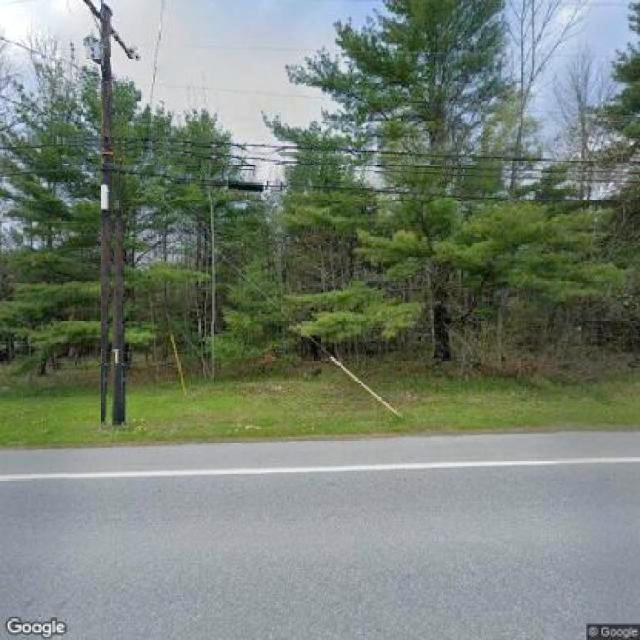crossarm: (84, 0, 137, 59)
pole: (101, 0, 114, 429)
transformer: (87, 36, 105, 70)
wire: (2, 167, 575, 200), (1, 142, 367, 165), (0, 35, 108, 85), (144, 0, 165, 138)
